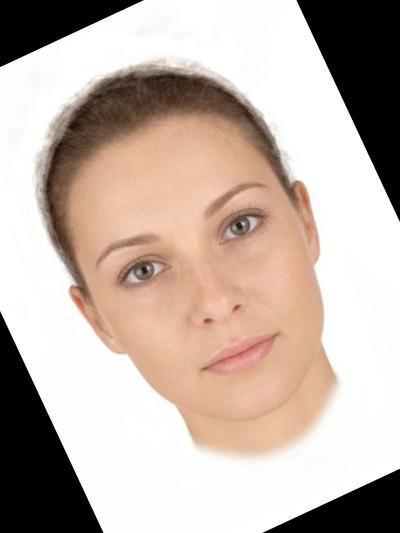Sober: (94, 136, 309, 404)
